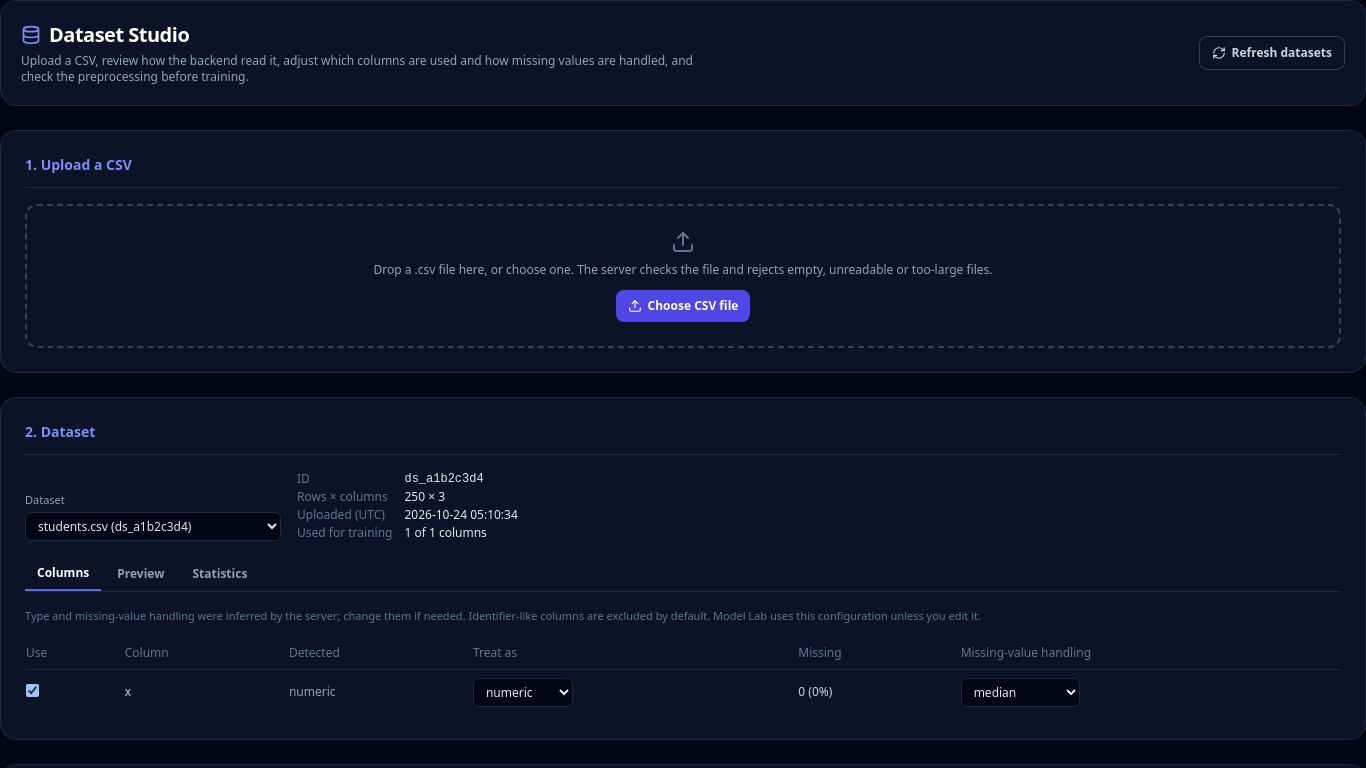
Scenario: DatasetStudio: datasets › shows statistics and marks missing ones unavailable
This screenshot has width=1366, height=768.
Click the tab "Statistics".
click(220, 574)  # box left=180, top=557, right=259, bottom=591
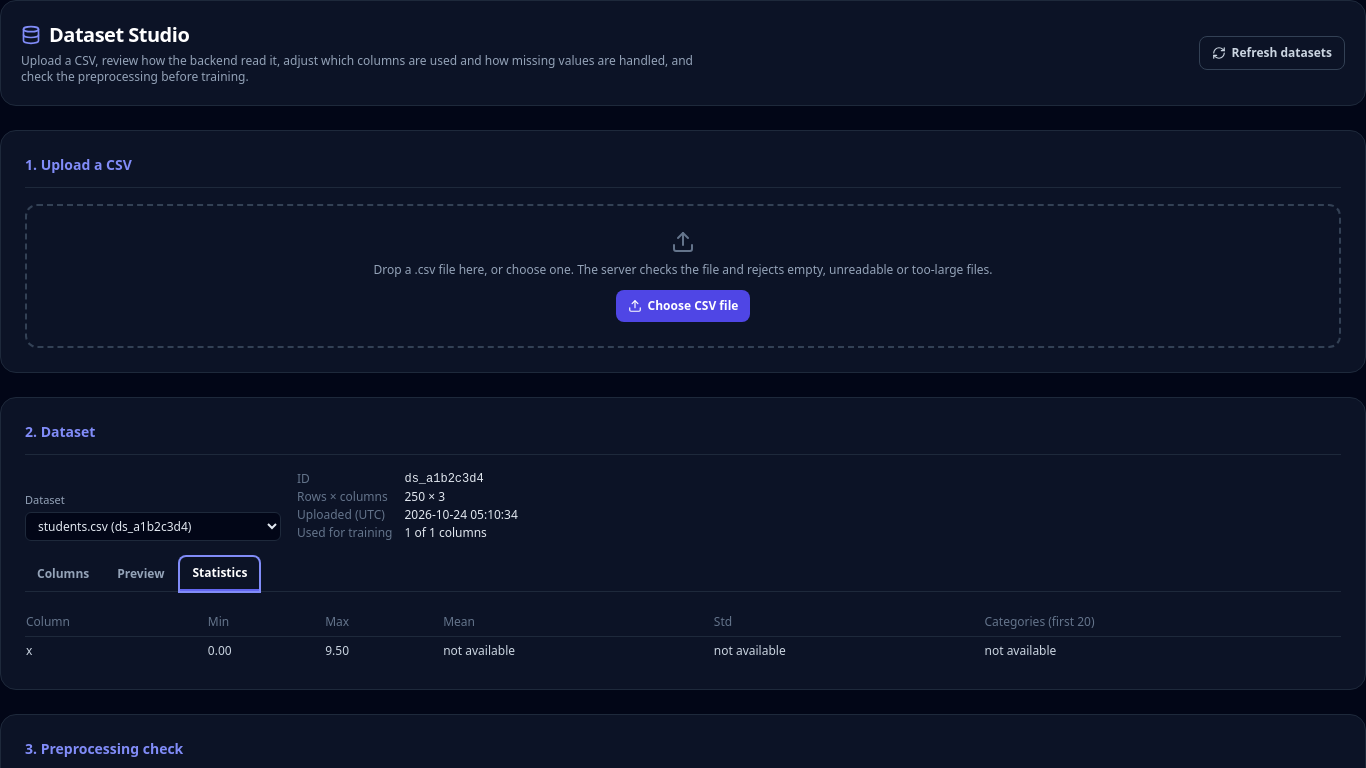
Now the text "x" shows "0.00", box left=208, top=642, right=232, bottom=659
Now the text "x" shows "9.50", box left=325, top=642, right=349, bottom=659
